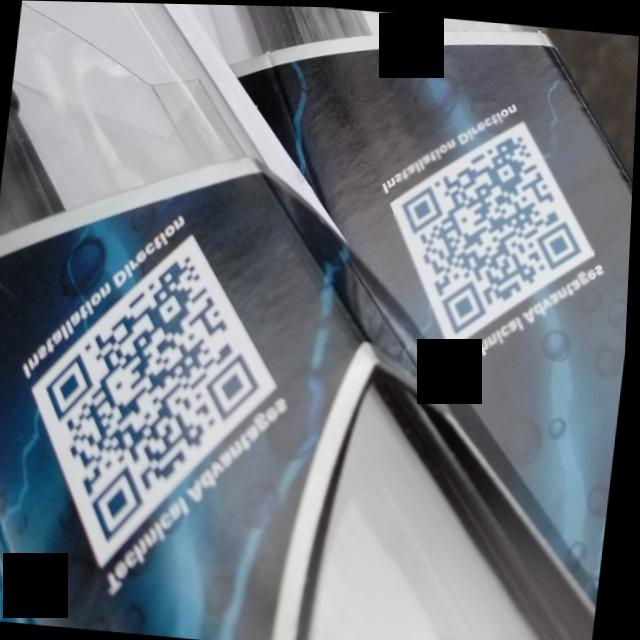QR_CODE: (23, 217, 288, 559), (382, 103, 610, 354)
